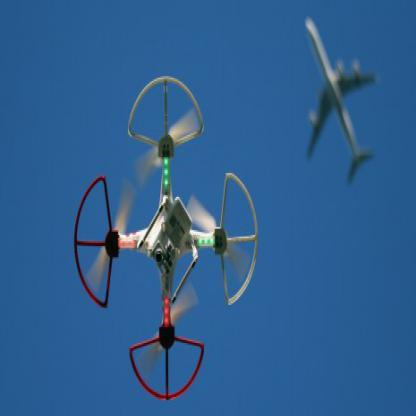CIV_Plane: (300, 11, 386, 188)
